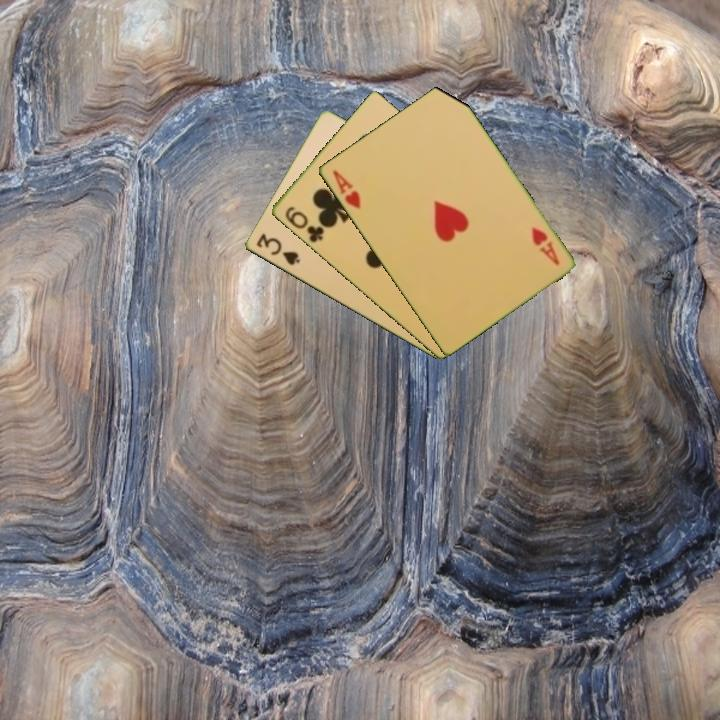3s: (252, 230, 303, 268)
6c: (281, 203, 327, 246)
Ah: (328, 166, 363, 212), (527, 223, 562, 268)
